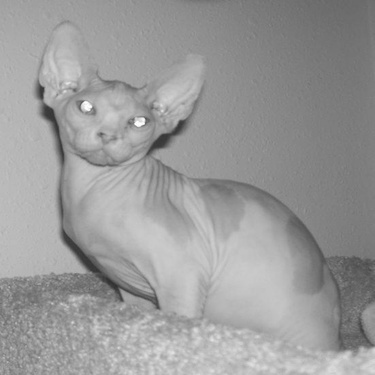cat: (33, 19, 343, 356)
